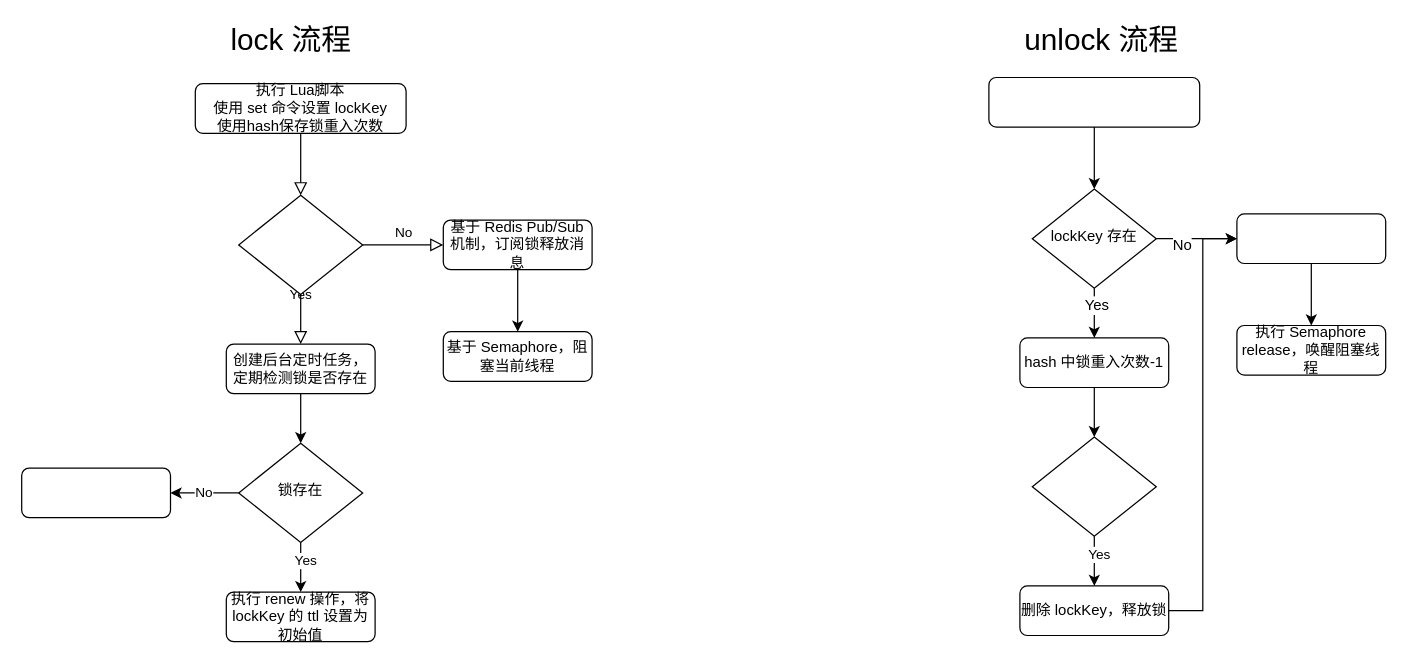
Image size: 1407x665. Some labels were removed from this diagram. The shapes that lost their labels are listed below. From the top down, each one's box as (x1, y1, x2, y2) in pixels, then its label:
(988, 76, 1200, 127): 执行 Lua脚本 判断 lockKey 是否存在
(237, 194, 363, 294): 加锁成功
(1236, 213, 1386, 264): Pub 锁释放消息
(20, 467, 170, 518): 定时任务终止
(1031, 436, 1156, 536): 重入次数=0
